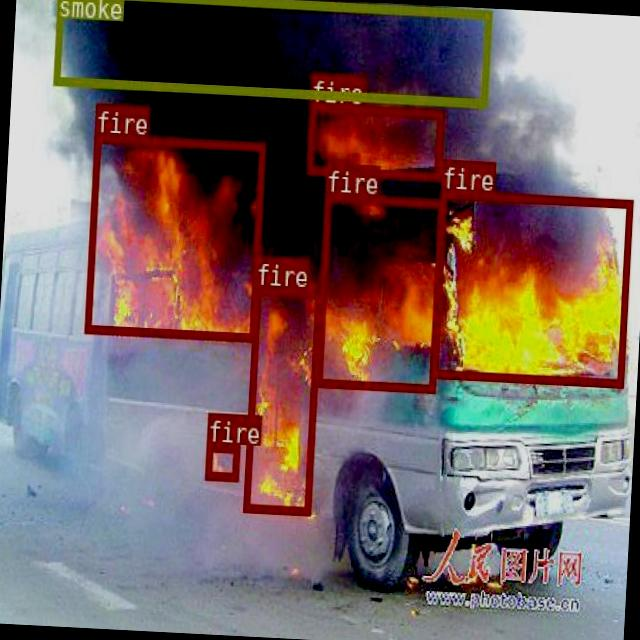fire: (430, 189, 632, 387), (83, 132, 264, 340), (314, 193, 444, 391), (242, 284, 321, 513), (305, 102, 444, 180), (204, 442, 238, 480)
smoke: (53, 0, 490, 107)
